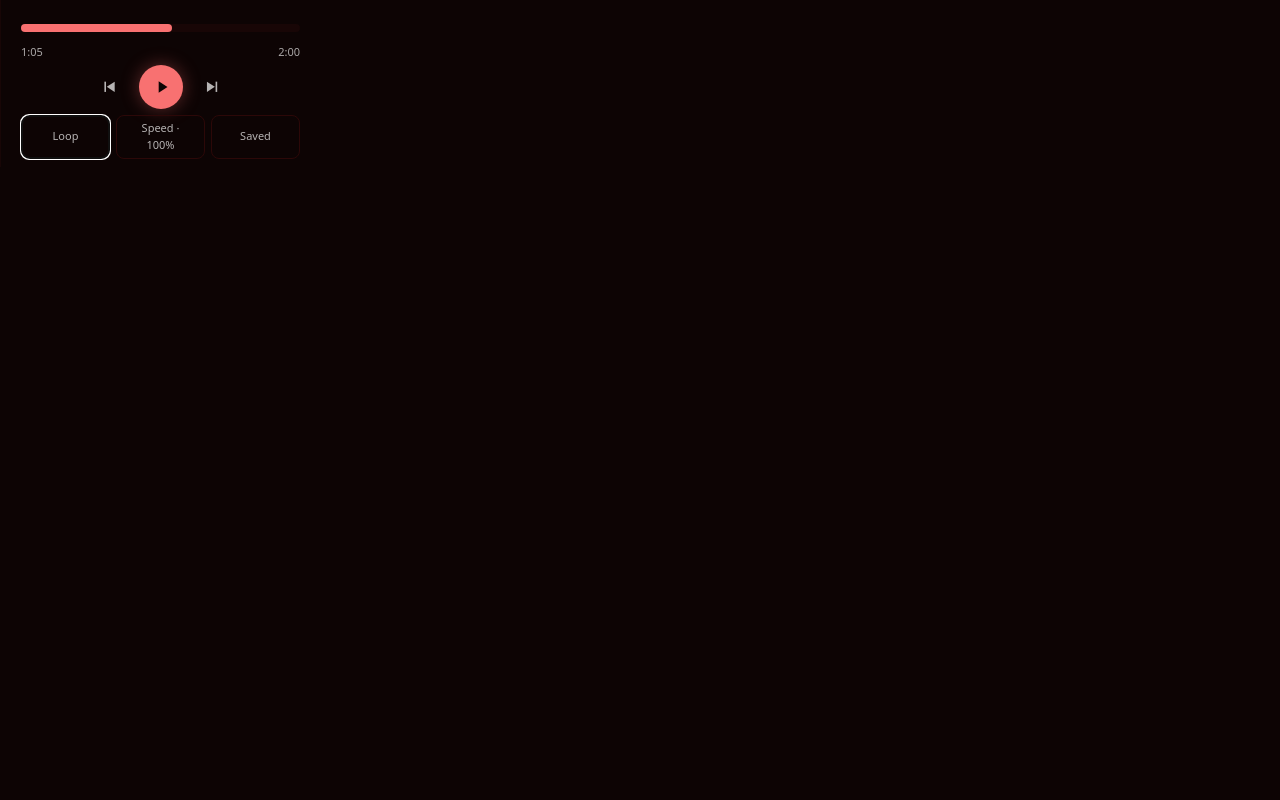
mobile play-mode control dock › reveals the lyrics after arming loop point a
The image size is (1280, 800).
Click the button "Loop". click: (66, 136)
box: [21,114,110,158]
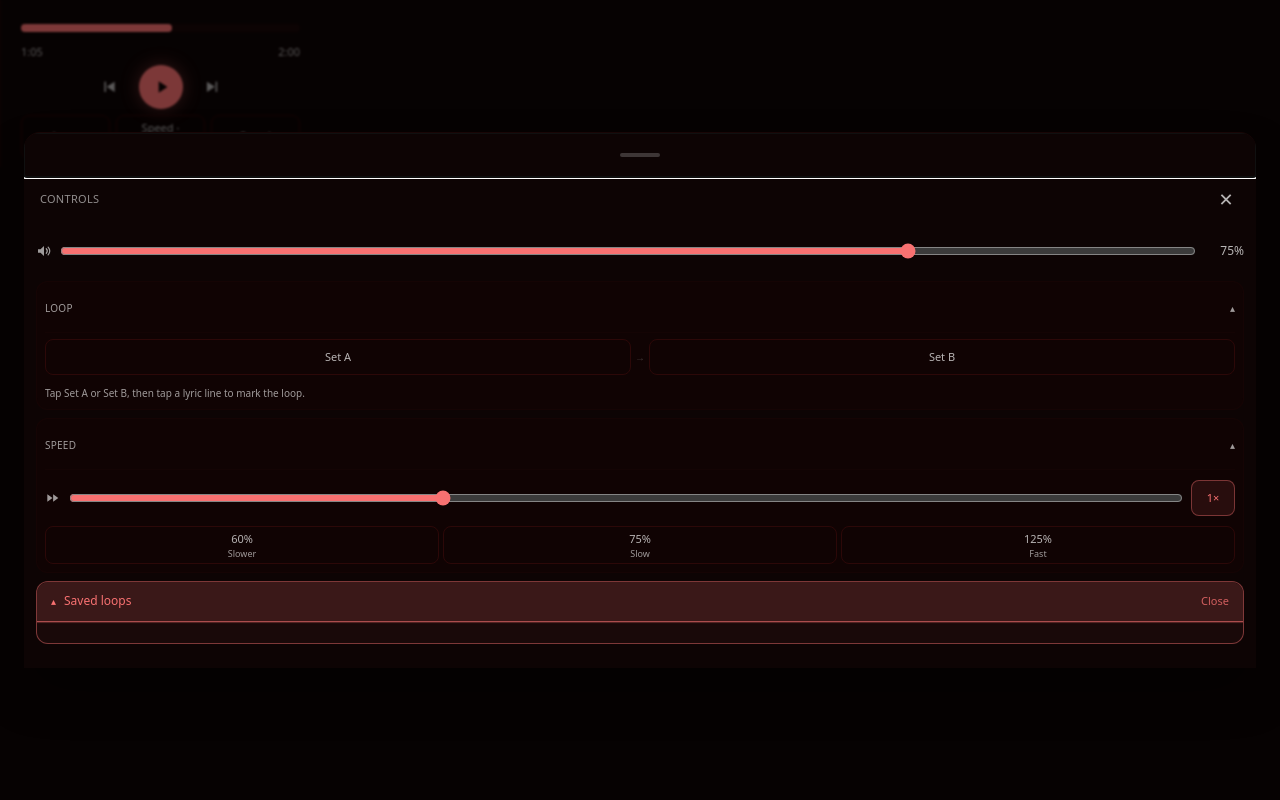
Click the button with aria-label "A loop point". click: (338, 357)
box: [45,339,631,375]
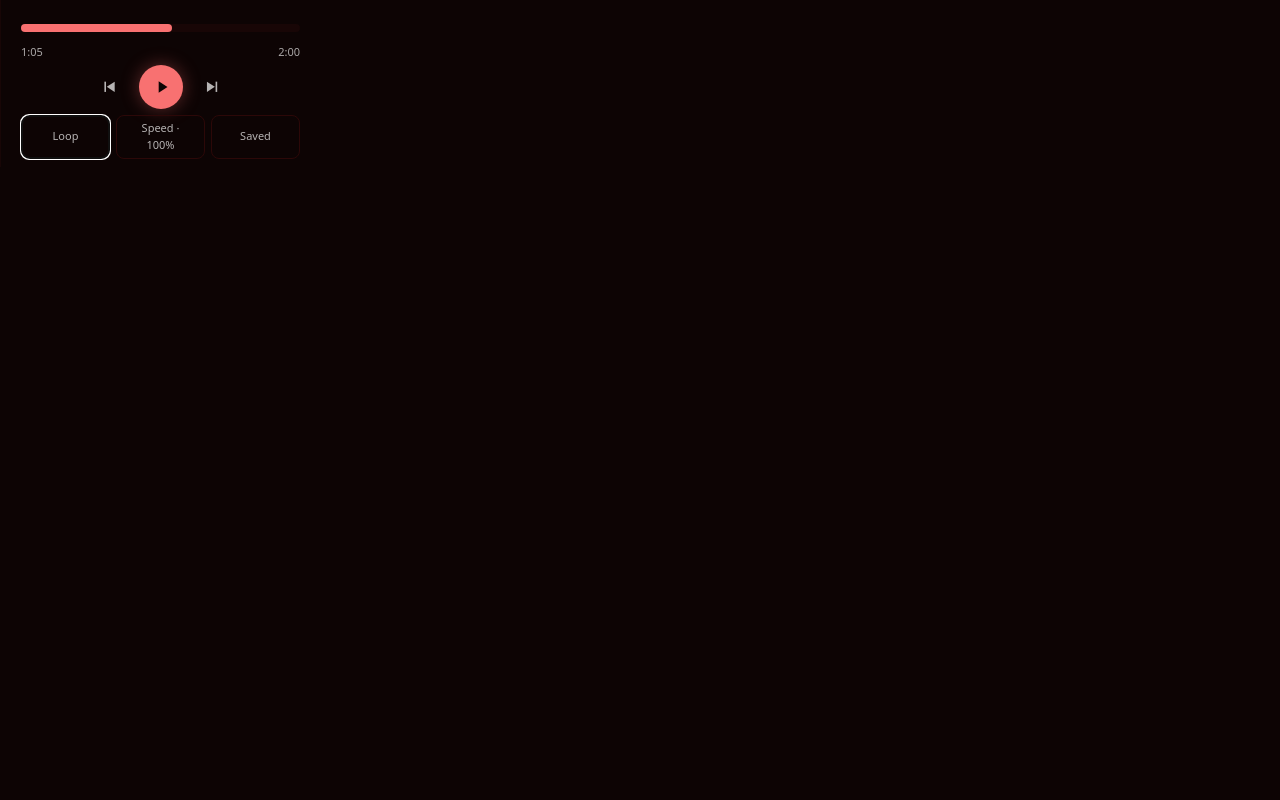
Now the heading "Controls" is gone
